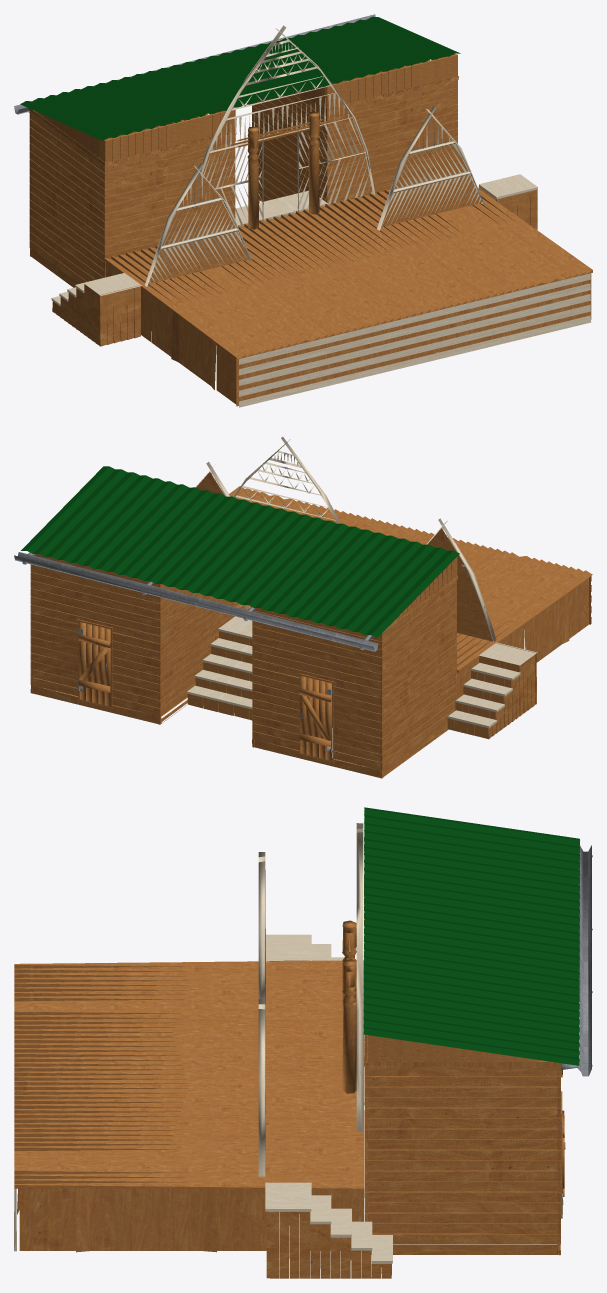
3 renders of one model, top to bottom at view 1: azimuth 30°, elevation 25°; view 2: azimuth 150°, elevation 25°; view 3: azimuth 270°, elevation 25°, orthographic. The views are drawn at different scales.
Visible parts, largest first — view 1: Сцена; view 2: Сцена; view 3: Сцена.
Part boxes in pixels (x1,y1,x2,y2): Сцена: (14, 14, 592, 407); Сцена: (14, 436, 592, 778); Сцена: (14, 807, 592, 1278).
Size of the model in its own units: 15.76 by 8.37 by 13.9.
Materials: 5 (4 with a texture image).
